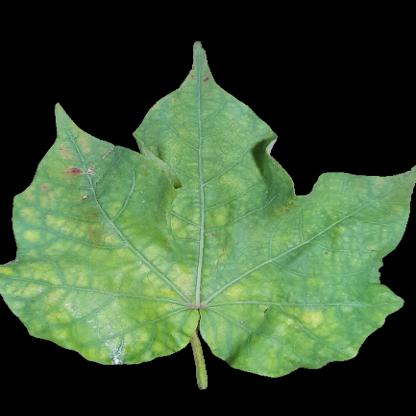curl_stage1: (23, 213, 182, 334), (186, 258, 357, 351), (161, 138, 256, 230), (254, 209, 403, 254), (53, 153, 152, 215), (159, 101, 254, 138)
